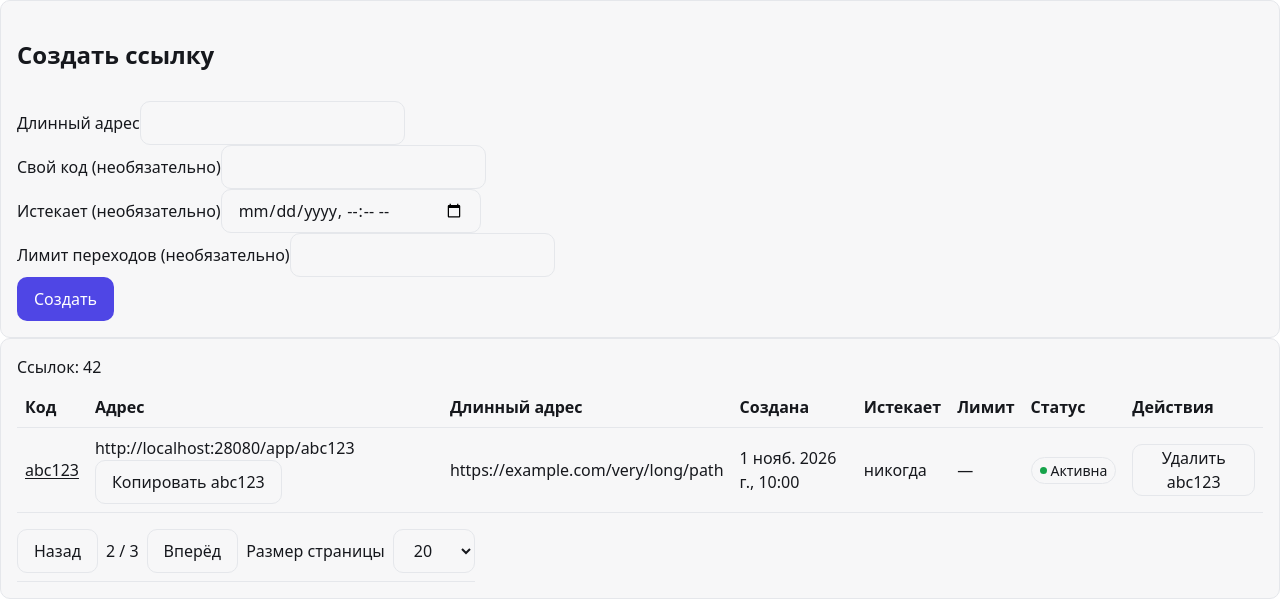
Test case: LinksPage › смена размера уходит в запрос с новым size= и page=0
This screenshot has width=1280, height=616.
Check: the button "Вперёд" is shown, box [146,529,238,573]
Step 1. Select "50" in the dropdown labelled "Размер страницы" → (434, 551), box [393,529,475,573]
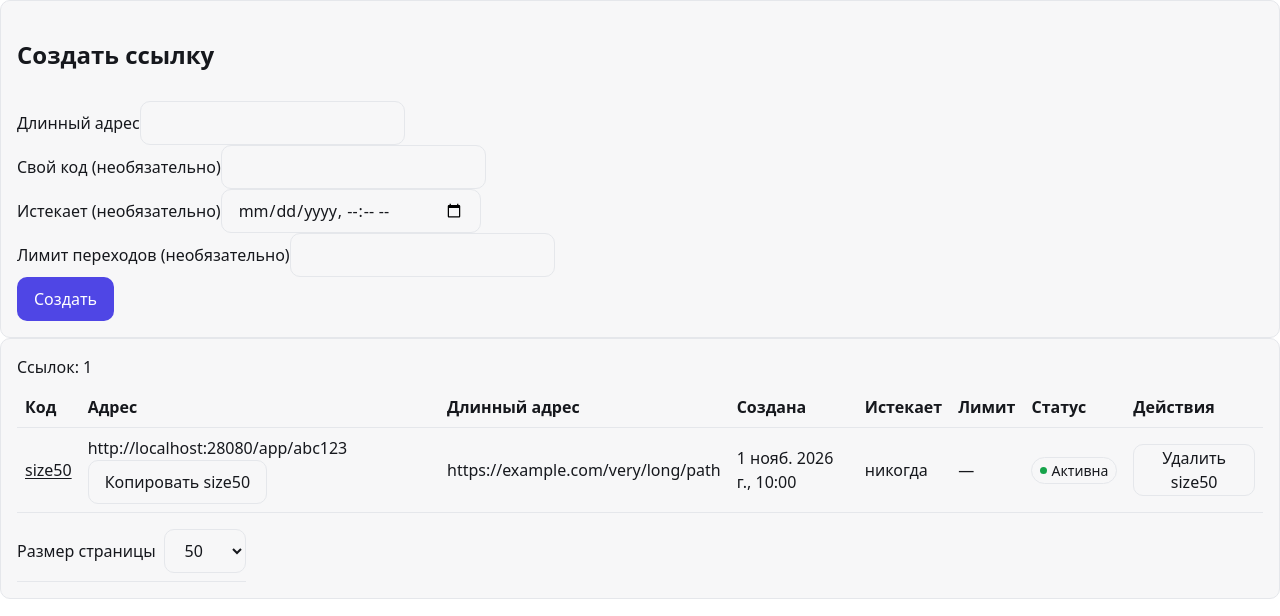
Check: the link "size50" is shown, box [25,459,72,481]
Check: the button "Вперёд" is gone
Check: the dropdown labelled "Размер страницы" shows "50", box [164,529,246,573]
